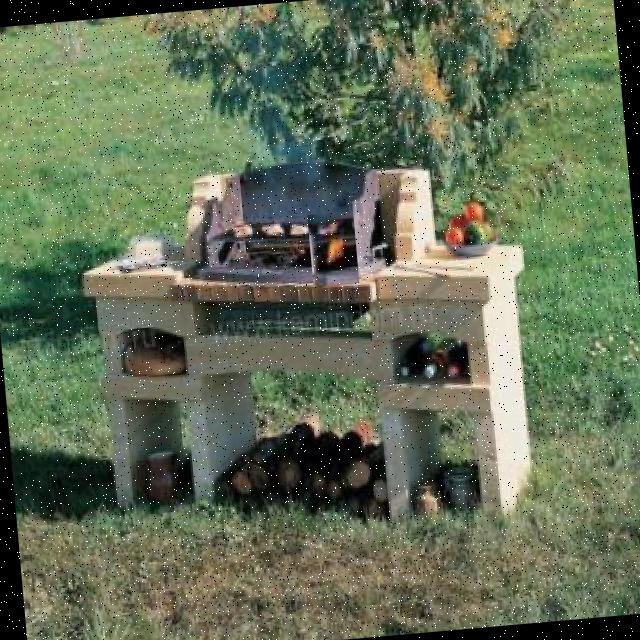fire: (307, 210, 359, 286)
